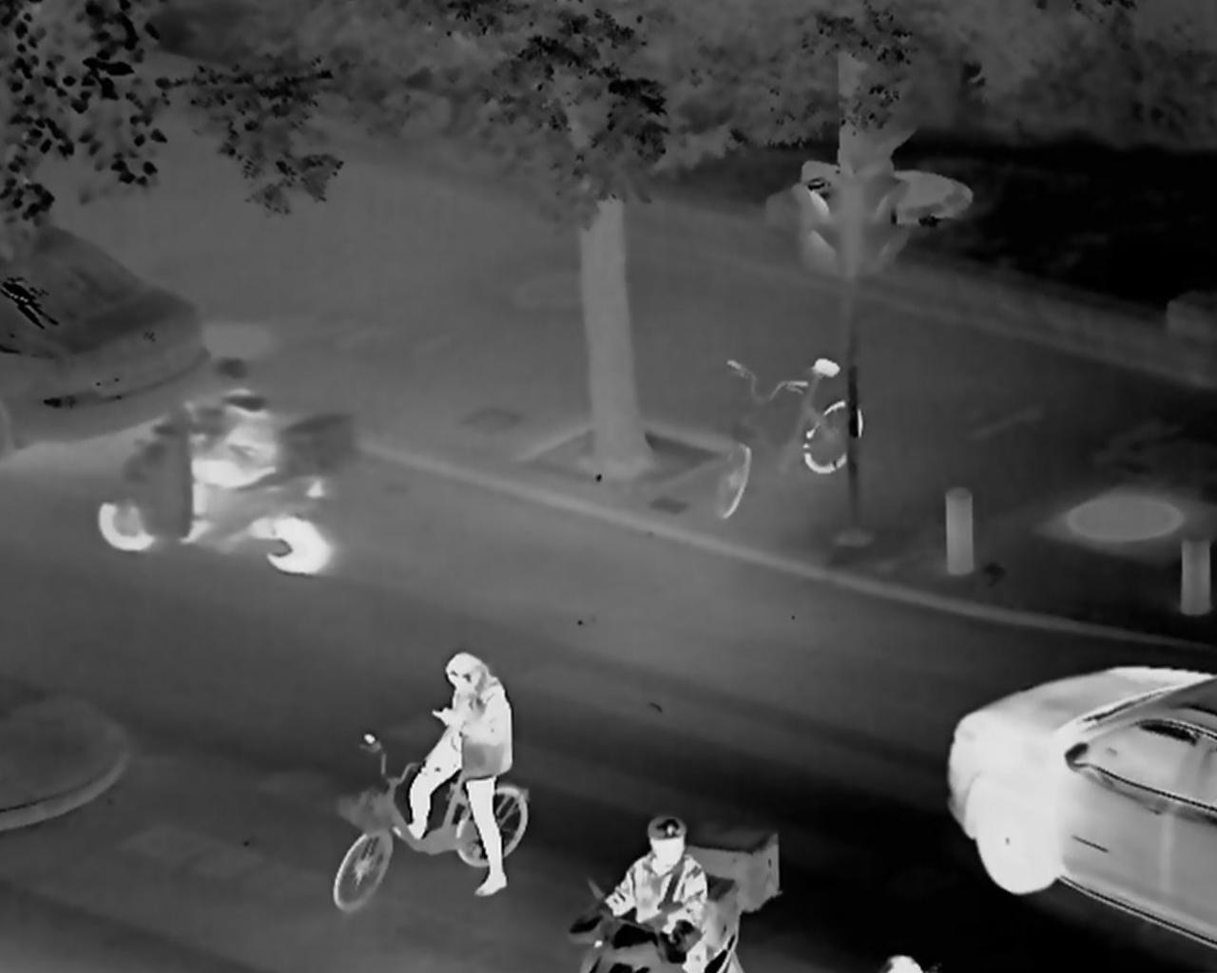person: (397, 652, 516, 902), (160, 357, 278, 554), (593, 812, 714, 973)
